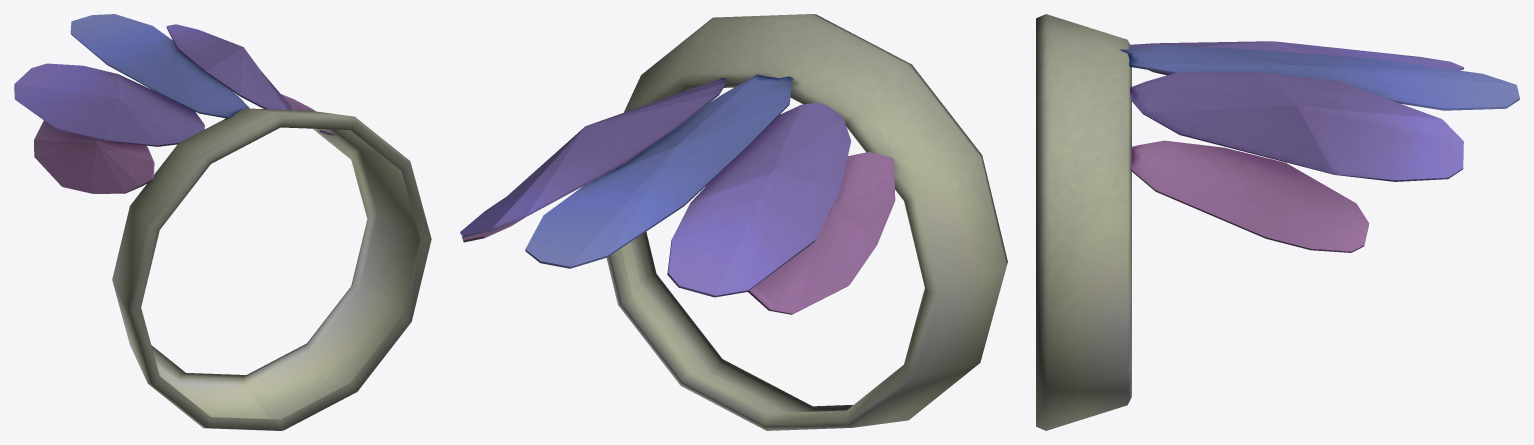
The model's file is Indian.fbx.
The picture shows the model from 3 angles, left to right: view 1: azimuth 30°, elevation 25°; view 2: azimuth 150°, elevation 25°; view 3: azimuth 270°, elevation 25°; orthographic projection. The views are drawn at different scales.
Parts seen in each view (by area): view 1: pens; view 2: pens; view 3: pens.
Boxes of the visible parts, <box> form: pens: <box>14,14,431,430</box>; pens: <box>460,14,1007,430</box>; pens: <box>1036,14,1519,430</box>.
Bounding box in the file's own units: 70.85 × 70.85 × 81.89.
